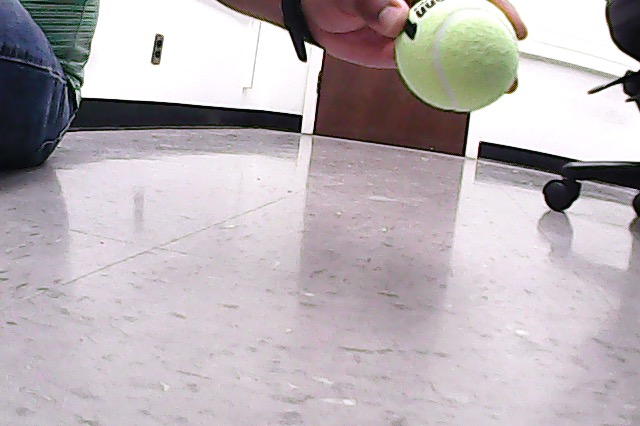ball: (395, 1, 519, 112)
